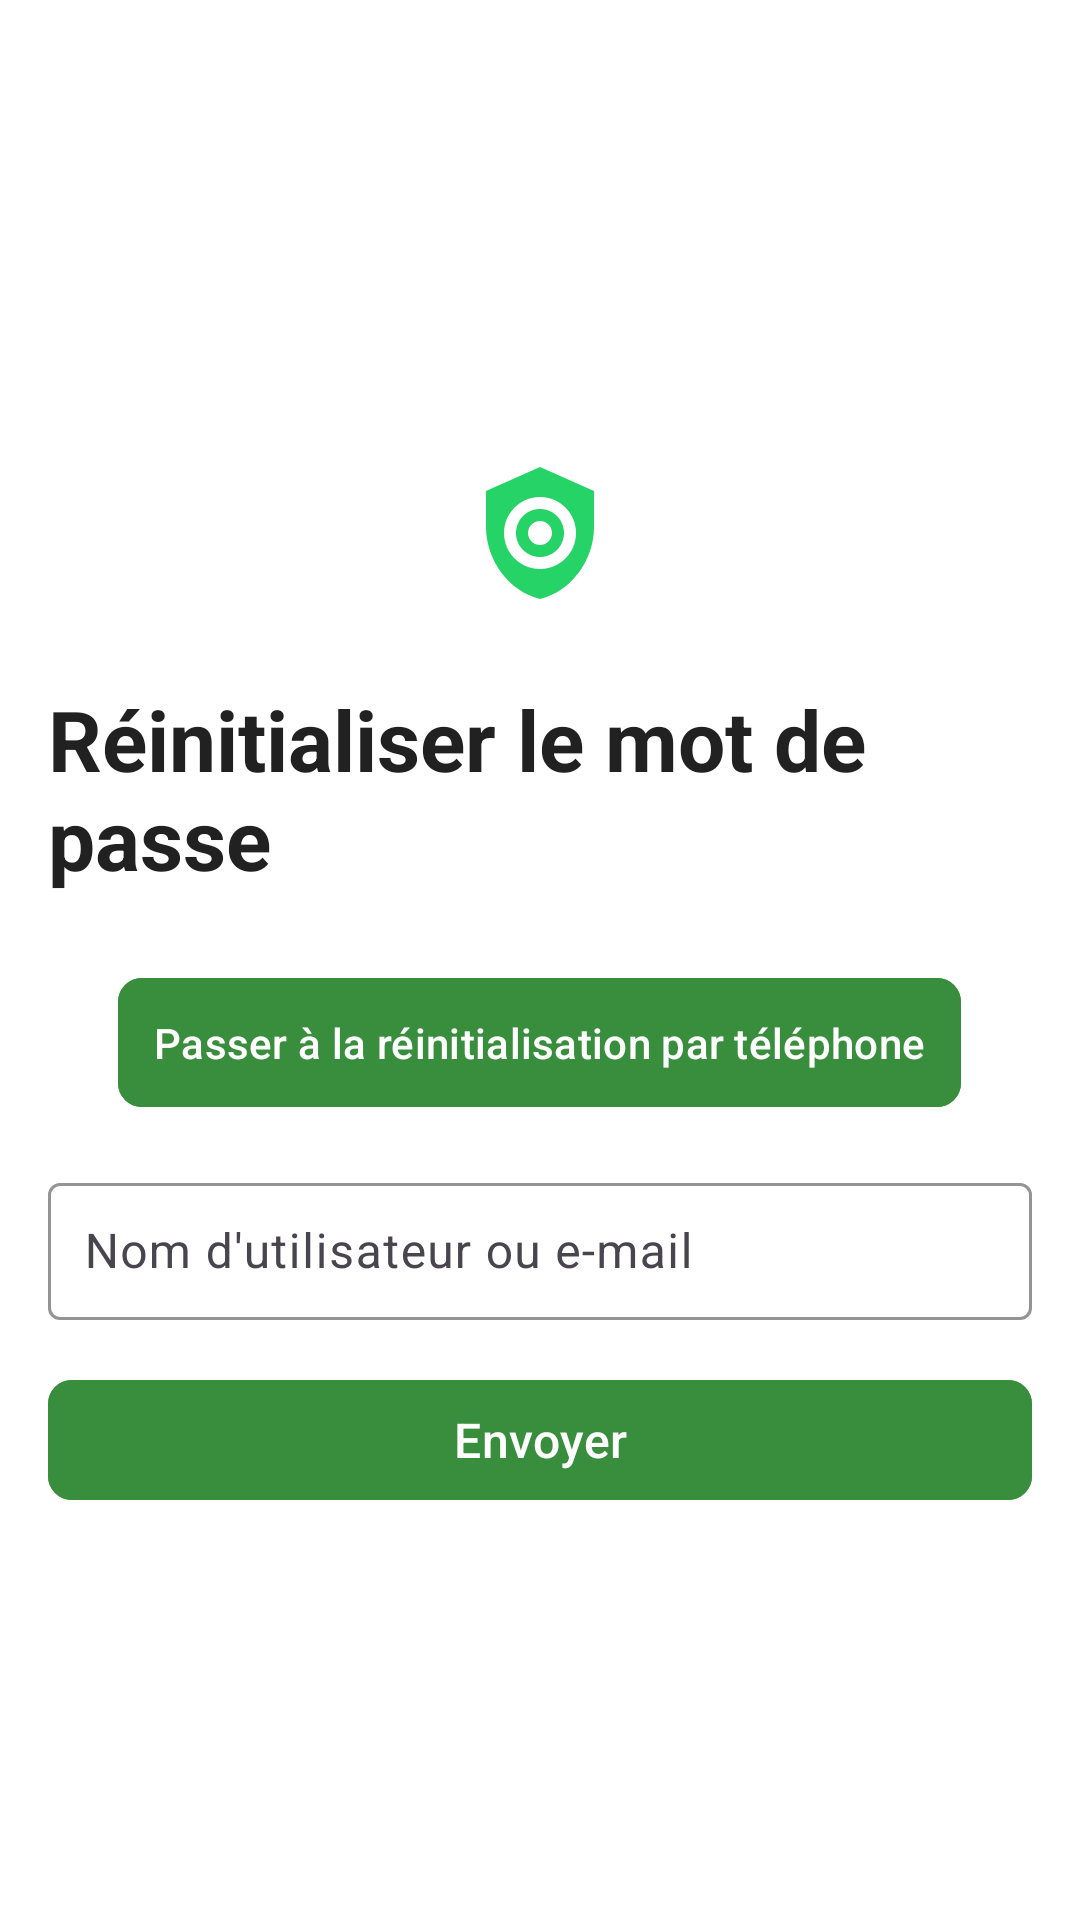

Screen size 1080*1920. Icon name, then its box in pixels as (x1, y1, x2, y2):
icône de l'application: (486, 467, 594, 599)
